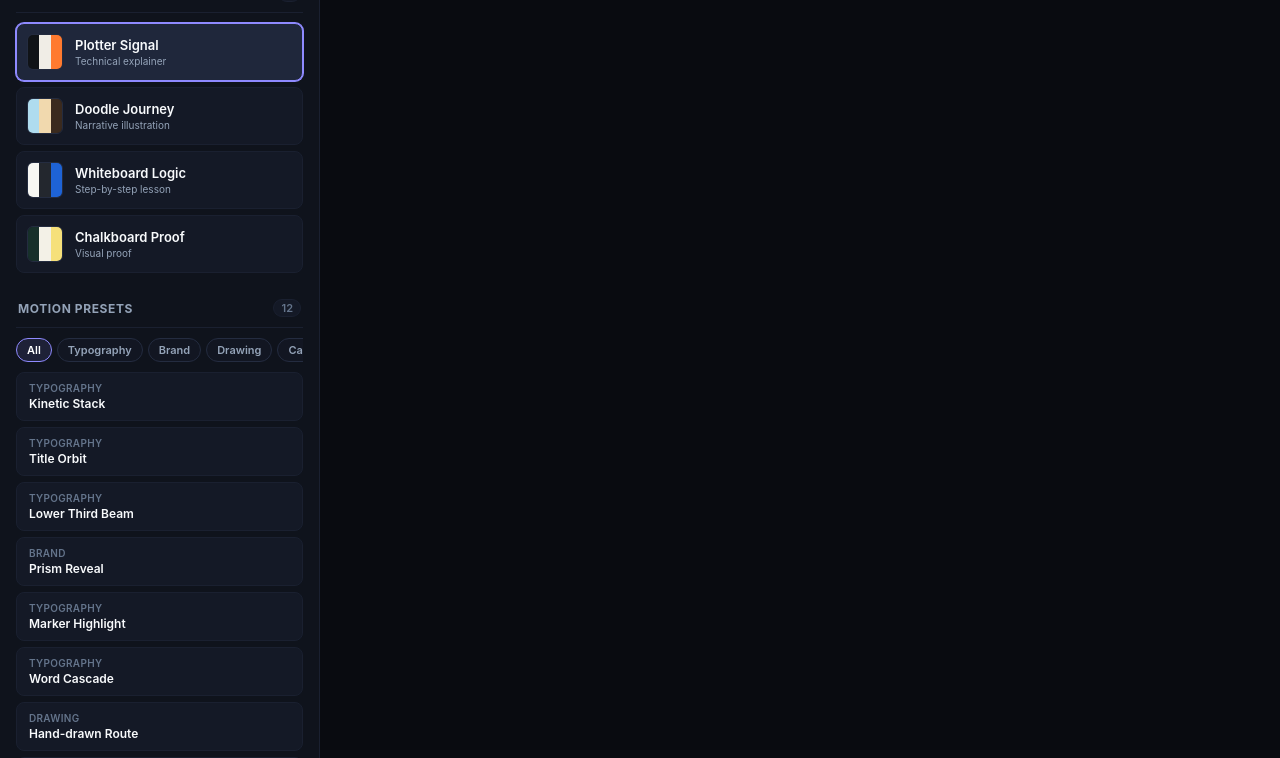
Test: local visual library › derives direction from the text when set to auto
(page scrolled)
Step 1. Click the button "Typography Kinetic Stack" → x=66, y=388, box 16,372 -> 303,421
(page scrolled)
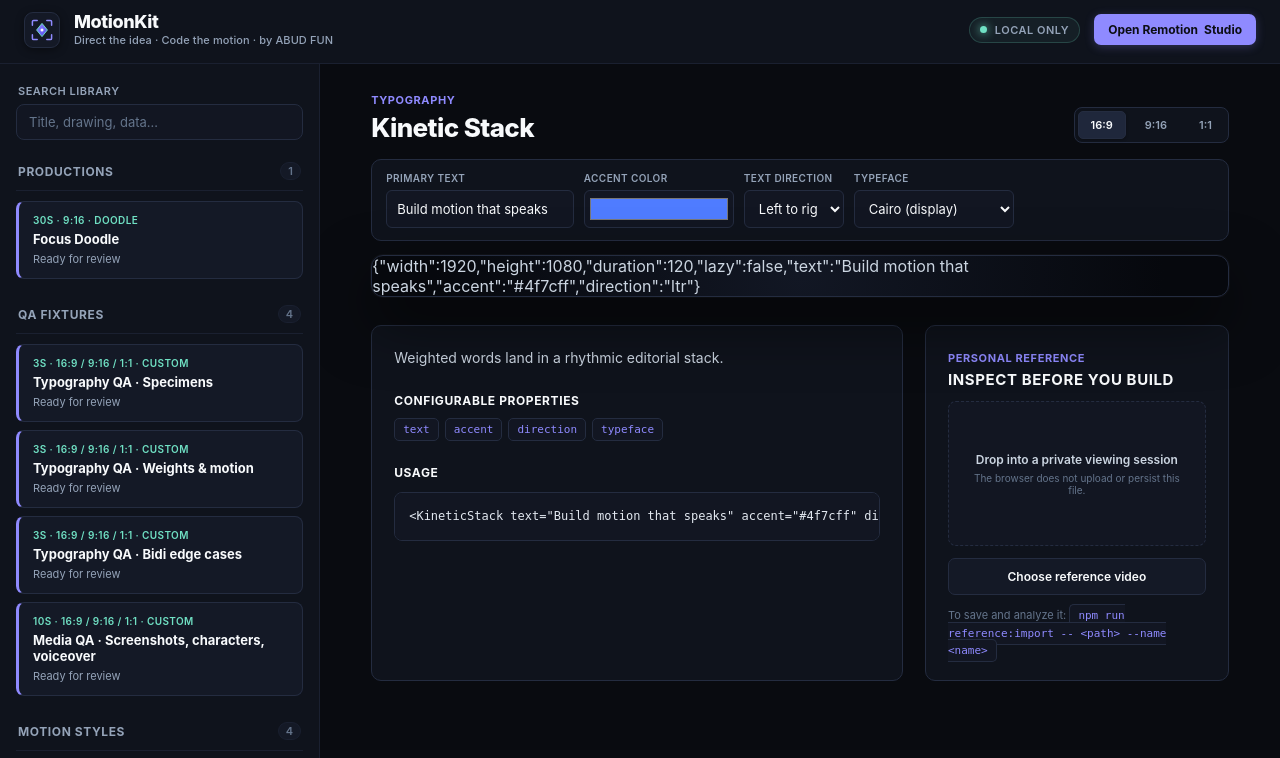
Step 2. Select "Auto (LTR from text)" in the dropdown labelled "Text direction" → x=794, y=209, box 744,190 -> 844,228
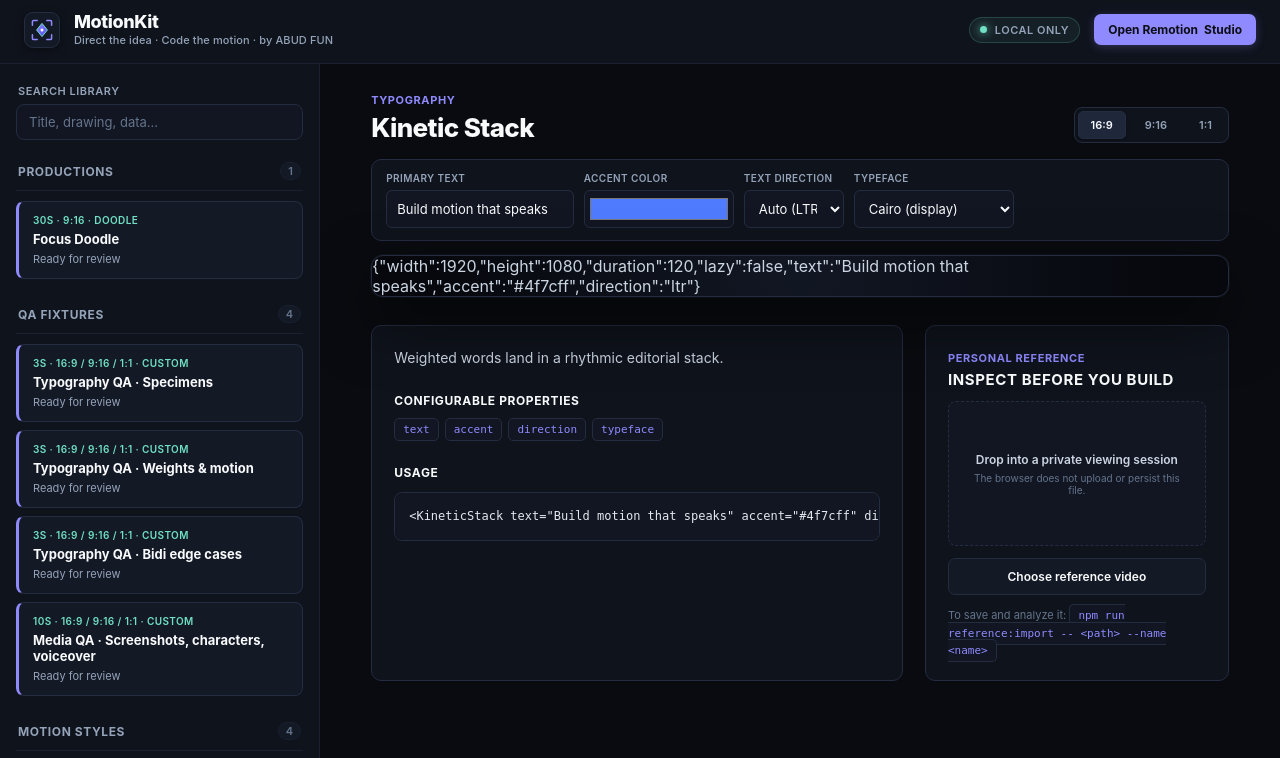
Step 3. Replace the text in the field labelled "Primary text" with "الفكرة تتحرك" → x=480, y=209, box 386,190 -> 574,228
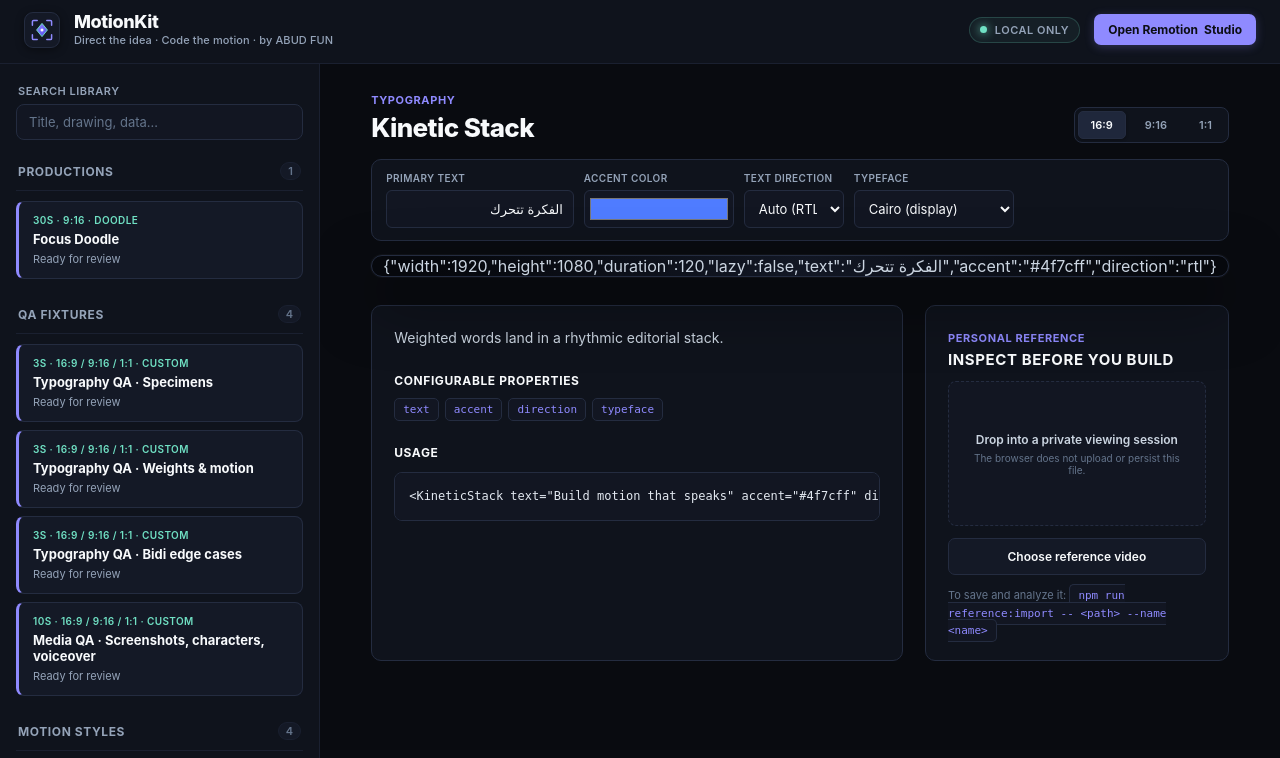
Expected: the text named "Animation preview" shows "\"direction\":\"rtl\"", 383,256 -> 1217,276
Step 4. Replace the text in the field labelled "Primary text" with "Ideas move" → x=480, y=209, box 386,190 -> 574,228
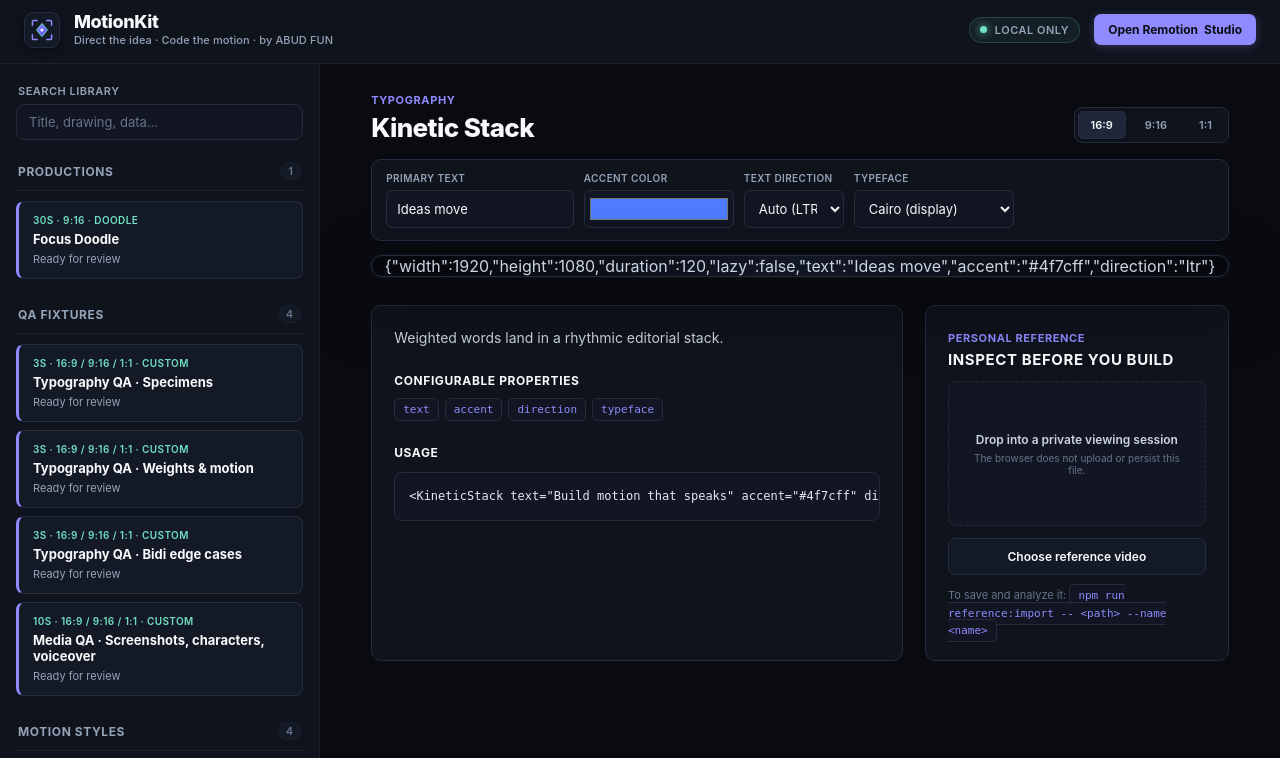
Expected: the text named "Animation preview" shows "\"direction\":\"ltr\"", 385,256 -> 1215,276
